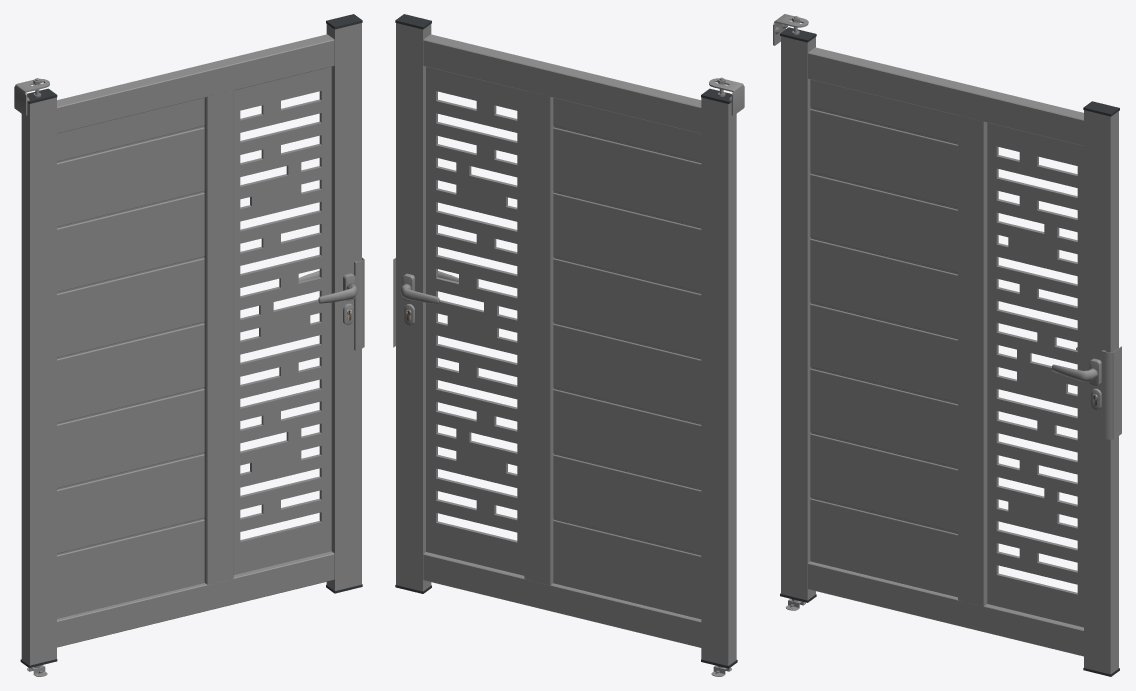
3 renders of one model, left to right at view 1: azimuth 30°, elevation 25°; view 2: azimuth 150°, elevation 25°; view 3: azimuth 330°, elevation 25°, orthographic.
Visible parts, largest first — view 1: Shape002, Shape107412643, Shape107412638, Shape107412024, Shape107412022, Shape107412014, Shape107412020, Shape107412018, Shape107412677, Shape107412678, Shape107412017, Shape107412012 (+4 smaller); view 2: Shape002, Shape107412643, Shape107412638, Shape107412024, Shape107412022, Shape107412018, Shape107412020, Shape107412678, Shape107412677, Shape107412014, Shape107412017, Shape107412012 (+3 smaller); view 3: Shape002, Shape107412638, Shape107412643, Shape107412024, Shape107412022, Shape107412020, Shape107412678, Shape107412018, Shape107412014, Shape107412677, Shape107412017, Shape107412012 (+3 smaller).
Boxes of the visible parts, left/top/right/bottom form: Shape002: left=233, top=66, right=331, bottom=574; Shape107412643: left=21, top=97, right=56, bottom=665; Shape107412638: left=326, top=23, right=361, bottom=590; Shape107412024: left=204, top=90, right=233, bottom=584; Shape107412022: left=57, top=256, right=204, bottom=357; Shape107412014: left=57, top=387, right=204, bottom=488; Shape107412020: left=57, top=322, right=204, bottom=422; Shape107412018: left=57, top=453, right=204, bottom=553; Shape107412677: left=57, top=191, right=204, bottom=292; Shape107412678: left=57, top=126, right=204, bottom=226; Shape107412017: left=57, top=518, right=204, bottom=618; Shape107412012: left=57, top=34, right=334, bottom=133; Shape002: left=426, top=66, right=524, bottom=575; Shape107412643: left=701, top=97, right=736, bottom=665; Shape107412638: left=396, top=23, right=431, bottom=591; Shape107412024: left=524, top=90, right=553, bottom=585; Shape107412022: left=553, top=257, right=701, bottom=357; Shape107412018: left=553, top=453, right=701, bottom=553; Shape107412020: left=553, top=322, right=701, bottom=423; Shape107412678: left=553, top=126, right=701, bottom=226; Shape107412677: left=553, top=191, right=701, bottom=292; Shape107412014: left=553, top=387, right=701, bottom=488; Shape107412017: left=553, top=518, right=701, bottom=619; Shape107412012: left=423, top=34, right=701, bottom=133; Shape002: left=987, top=122, right=1083, bottom=627; Shape107412638: left=1084, top=110, right=1118, bottom=674; Shape107412643: left=781, top=36, right=815, bottom=600; Shape107412024: left=958, top=115, right=987, bottom=606; Shape107412022: left=810, top=237, right=957, bottom=337; Shape107412020: left=810, top=302, right=957, bottom=402; Shape107412678: left=810, top=107, right=957, bottom=207; Shape107412018: left=810, top=432, right=957, bottom=532; Shape107412014: left=810, top=367, right=957, bottom=467; Shape107412677: left=810, top=172, right=957, bottom=272; Shape107412017: left=810, top=497, right=957, bottom=597; Shape107412012: left=808, top=47, right=1083, bottom=145.
Bounding box in the file's own units: 1015 × 1688 × 152.
Materials: 7 (4 with a texture image).
